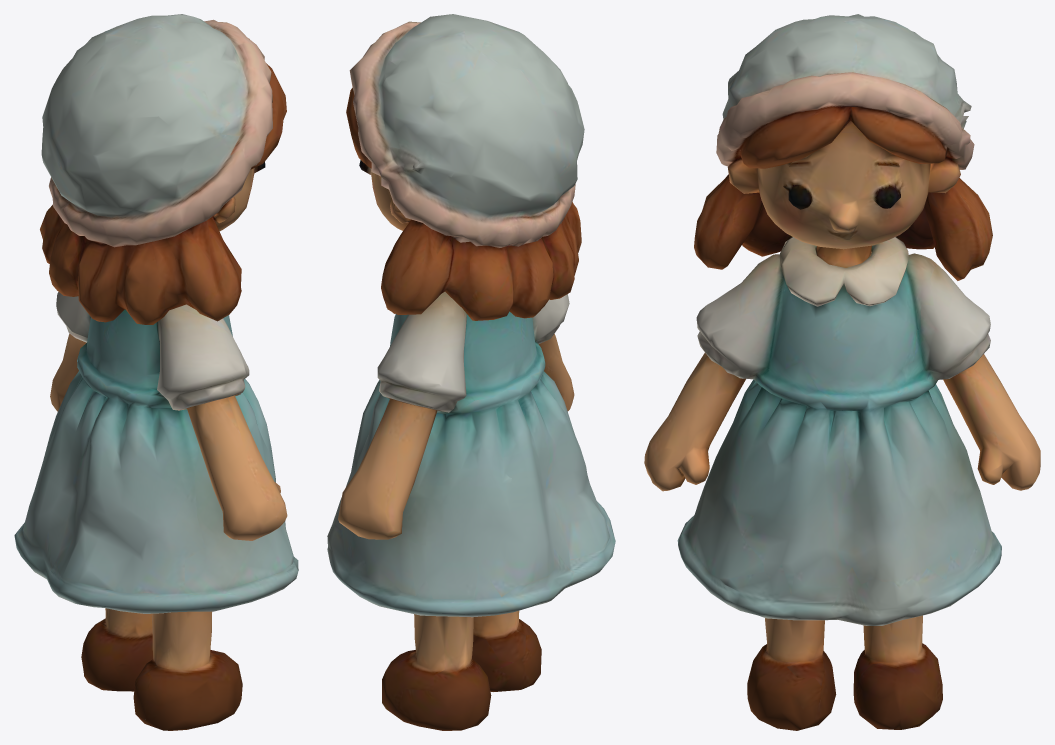
The model's file is doll.glb.
3 views of the same model, side by side, from view 1: azimuth 30°, elevation 25°; view 2: azimuth 150°, elevation 25°; view 3: azimuth 270°, elevation 25° (orthographic). The views are drawn at different scales.
Parts seen in each view (by area): view 1: tripo_node_a062937f-167e-4ad7-8cae-7a2d9727b7c7; view 2: tripo_node_a062937f-167e-4ad7-8cae-7a2d9727b7c7; view 3: tripo_node_a062937f-167e-4ad7-8cae-7a2d9727b7c7.
Boxes of the visible parts, x1=… form: tripo_node_a062937f-167e-4ad7-8cae-7a2d9727b7c7: x1=14, y1=14, x2=298, y2=730; tripo_node_a062937f-167e-4ad7-8cae-7a2d9727b7c7: x1=327, y1=14, x2=615, y2=730; tripo_node_a062937f-167e-4ad7-8cae-7a2d9727b7c7: x1=644, y1=14, x2=1040, y2=730.
Size of the model in its own units: 0.3707 by 1 by 0.5223.
1 material, 1 textured.
